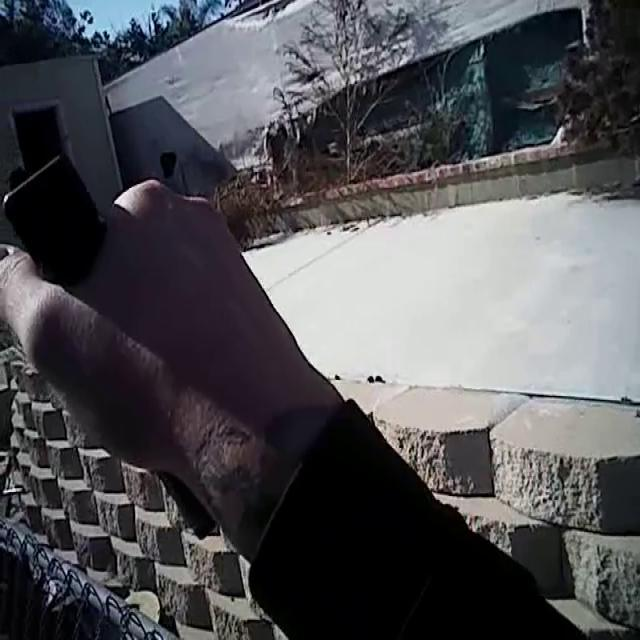gun: (2, 124, 244, 541)
